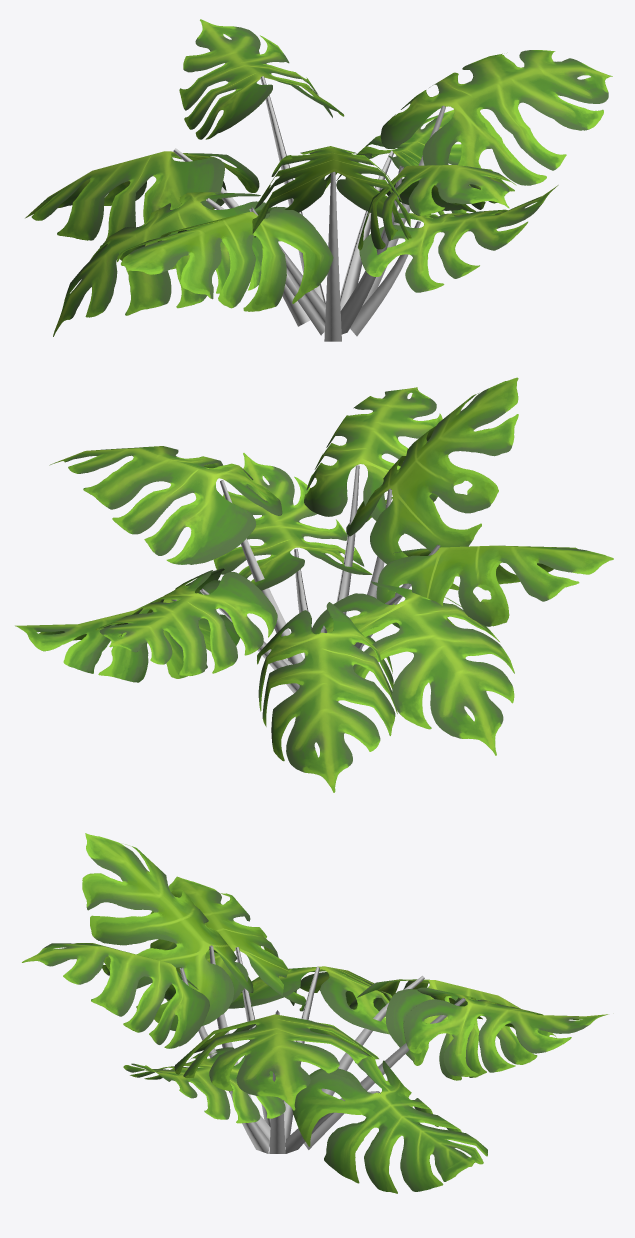
Rendered from SM_Monstera_var1.fbx.
3 views of the same model, one above another, from view 1: azimuth 30°, elevation 25°; view 2: azimuth 150°, elevation 25°; view 3: azimuth 270°, elevation 25° (orthographic). The views are drawn at different scales.
Parts seen in each view (by area): view 1: LOD0.001; view 2: LOD0.001; view 3: LOD0.001.
Part boxes in pixels (<box>): LOD0.001: <box>25,19,612,341</box>; LOD0.001: <box>15,377,613,792</box>; LOD0.001: <box>22,833,608,1193</box>.
Bounding box in the file's own units: 155 × 76.09 × 157.
